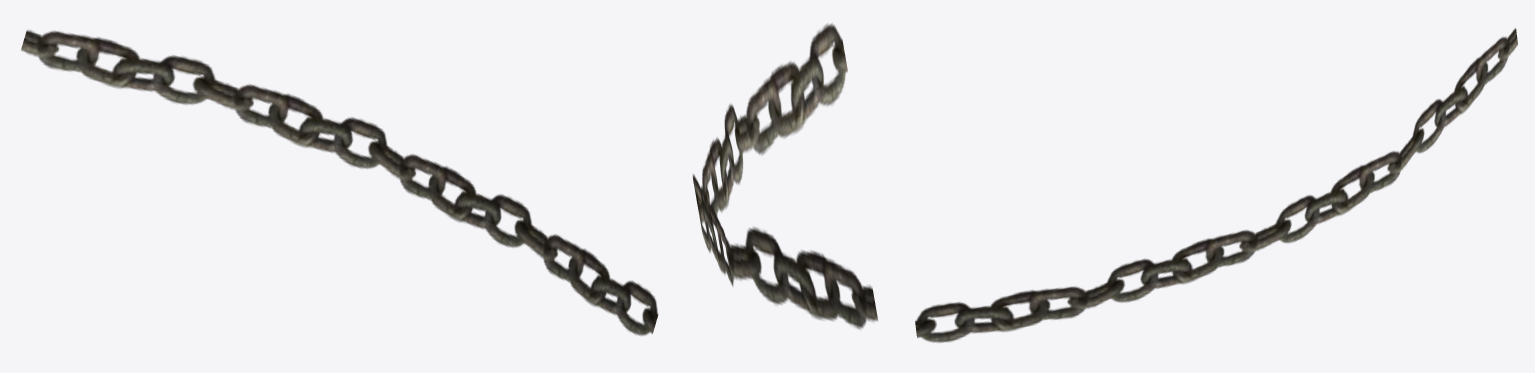
3 renders of one model, left to right at view 1: azimuth 30°, elevation 25°; view 2: azimuth 150°, elevation 25°; view 3: azimuth 270°, elevation 25°, orthographic. The views are drawn at different scales.
Visible parts, largest first — view 1: model_Object41; view 2: model_Object41; view 3: model_Object41.
Part boxes in pixels (left/top/right/bottom): model_Object41: left=21, top=30, right=658, bottom=335; model_Object41: left=692, top=23, right=877, bottom=329; model_Object41: left=915, top=28, right=1517, bottom=342.
Size of the model in its own units: 1.77 by 0.9906 by 2.78.
Materials: 1 (1 with a texture image).
